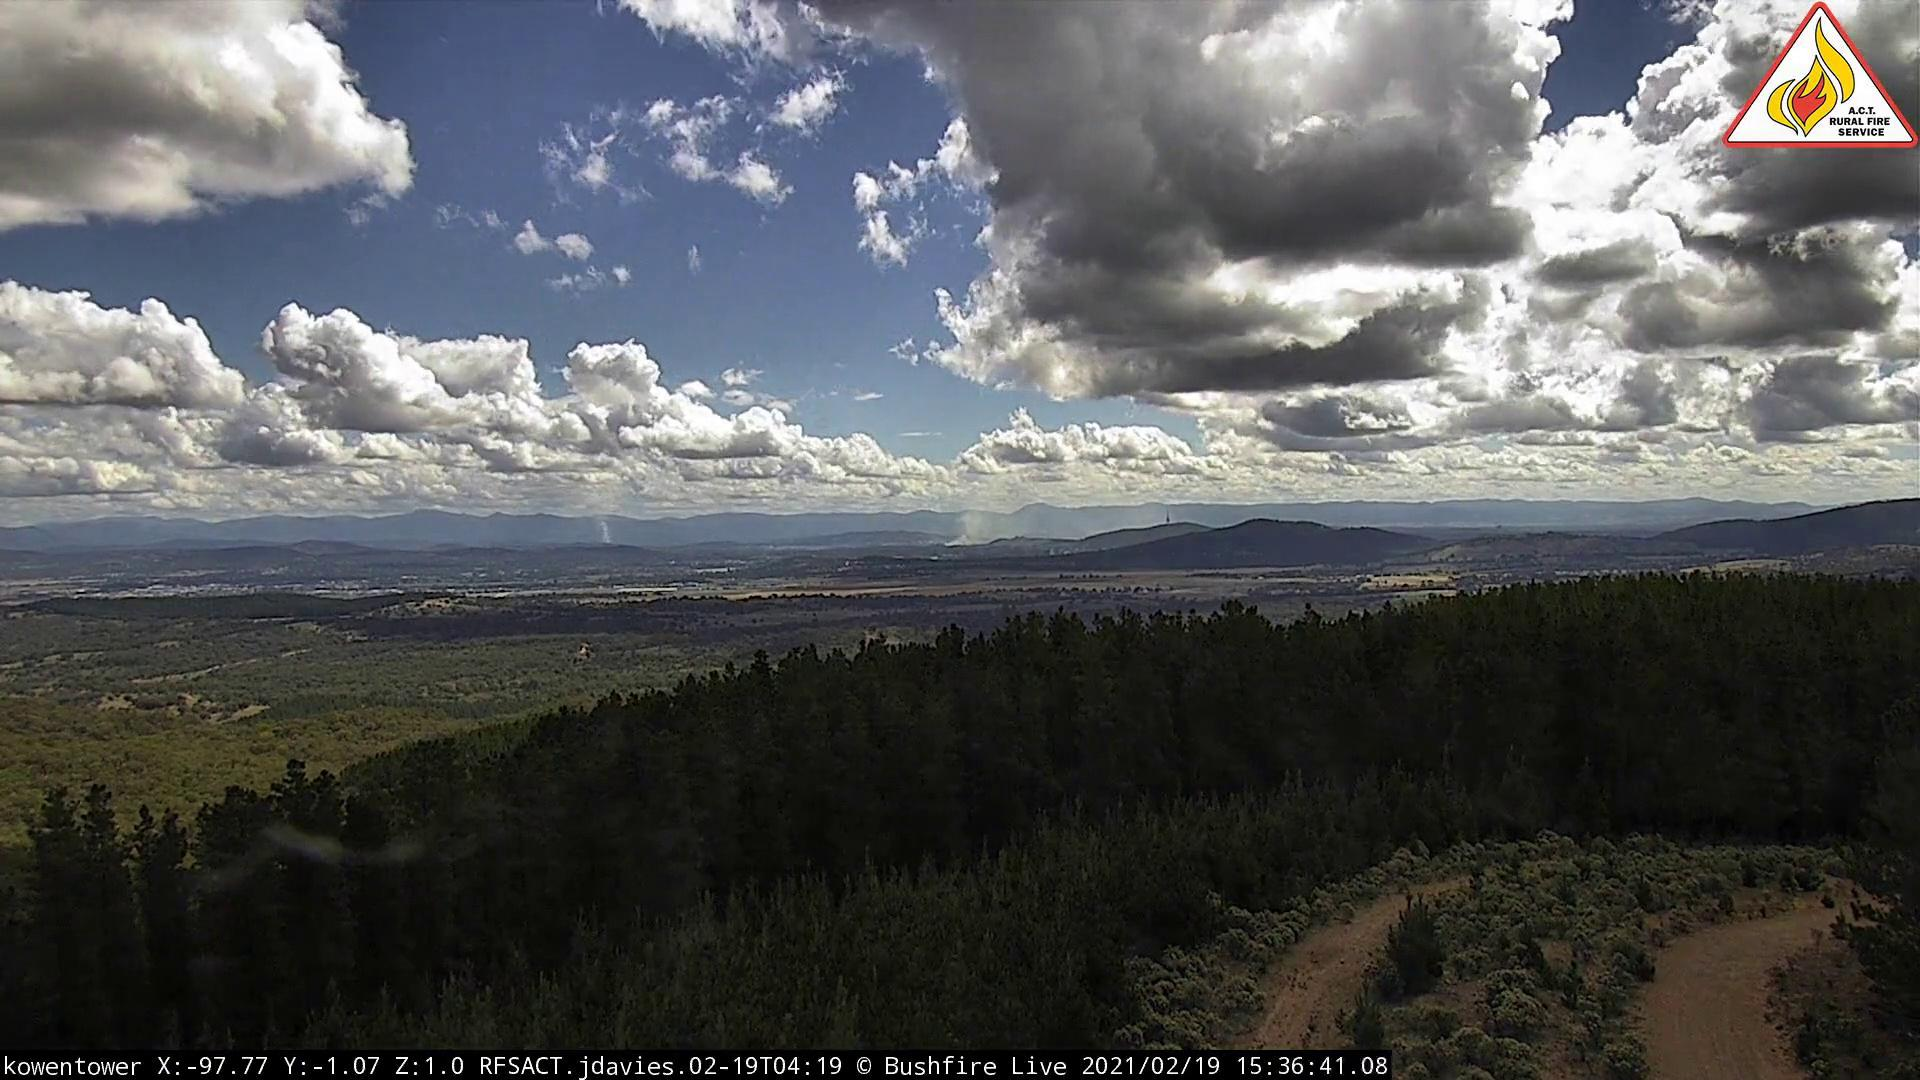Smoke: (942, 491, 1056, 551), (603, 524, 618, 553)
